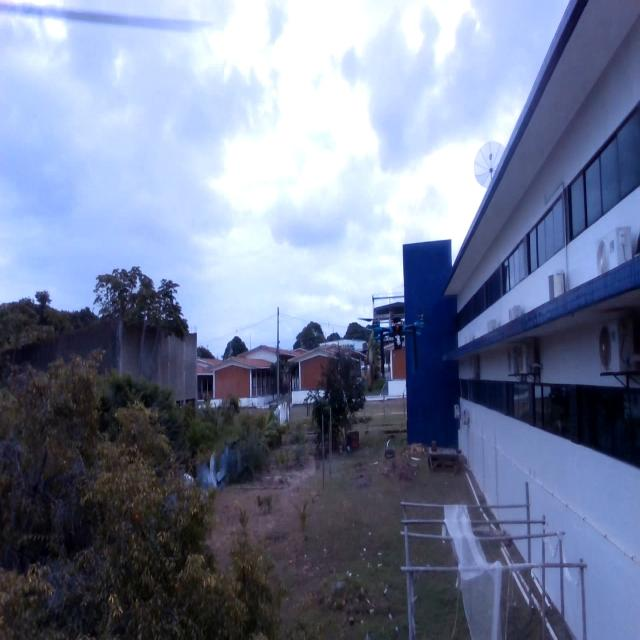-uav-: (373, 307, 426, 382)
